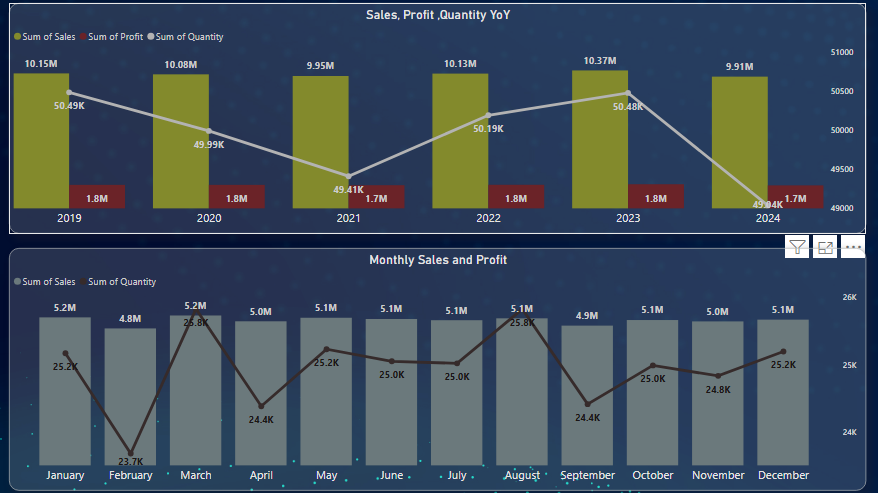

What the dashboard file says about the page in this screenshot:
{"tool":"powerbi","page":{"name":"Page 2","canvas":[1280,720],"ordinal":1},"visuals":[{"type":"lineClusteredColumnComboChart","title":"Sales, Profit ,Quantity  YoY","fields":{"Category":["Sales.OrderDate.Variation.Date Hierarchy.Year"],"Y":["Sum(Sales.Sales)","Sum(Sales.Profit)"],"Y2":["Sum(Sales.Quantity)"]},"box":[26.9,12.8,1214.6,327.4],"z":0},{"type":"lineStackedColumnComboChart","title":"Monthly Sales and Profit","fields":{"Category":["Order_Date.mon_name"],"Y":["Sum(Sales.Sales)"],"Y2":["Sum(Sales.Quantity)"]},"box":[26.9,360,1214.6,344.4],"z":1000}]}

Visuals, with their boxes in screenshot pixels (x1, y1, x2, y2), scaled from the page's 1280x720 canvas onto the 878x493 screenshot:
"Sales, Profit ,Quantity  YoY" lineClusteredColumnComboChart: region(18, 9, 852, 233)
"Monthly Sales and Profit" lineStackedColumnComboChart: region(18, 246, 852, 482)
